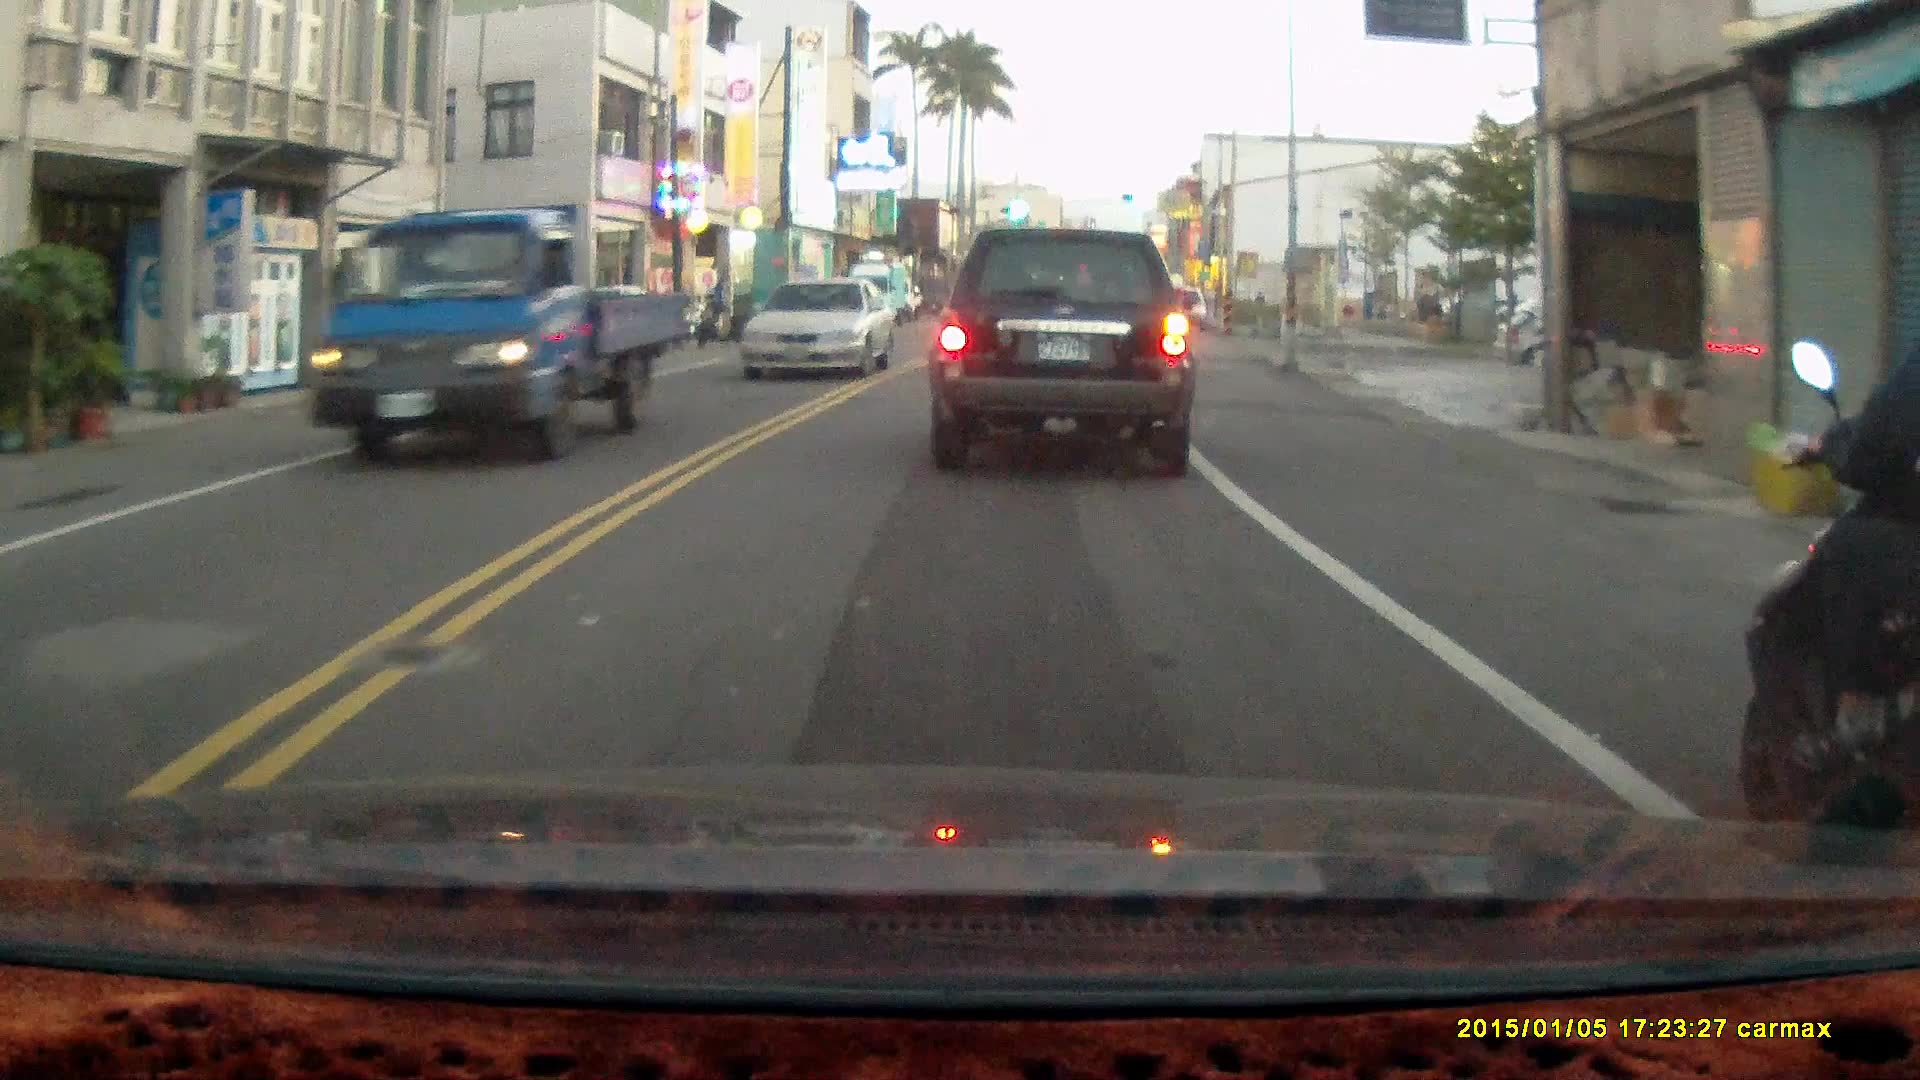pedestrian: (707, 278, 728, 334)
rider: (1745, 270, 1920, 903)
vehicle: (303, 207, 686, 468), (927, 226, 1199, 483), (741, 279, 899, 388)
